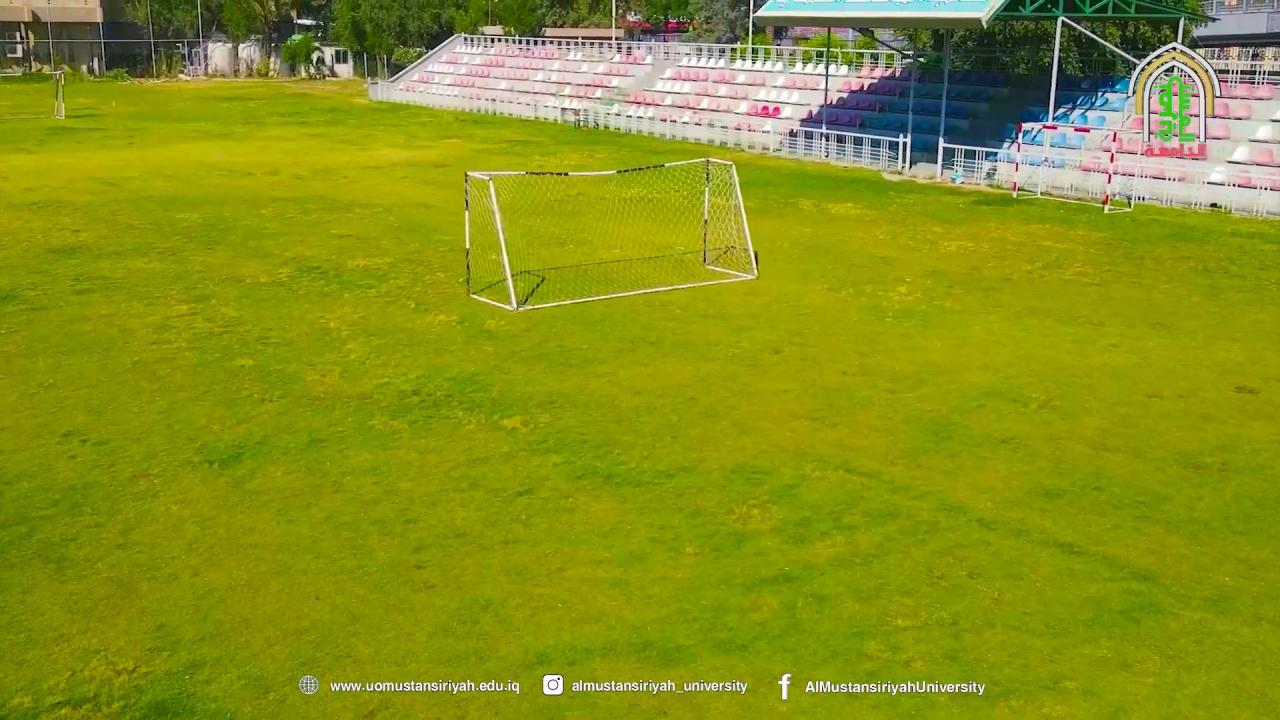tree: (330, 0, 443, 81), (122, 0, 199, 77), (219, 0, 293, 77), (687, 0, 752, 46), (280, 31, 319, 78), (390, 44, 425, 68)
